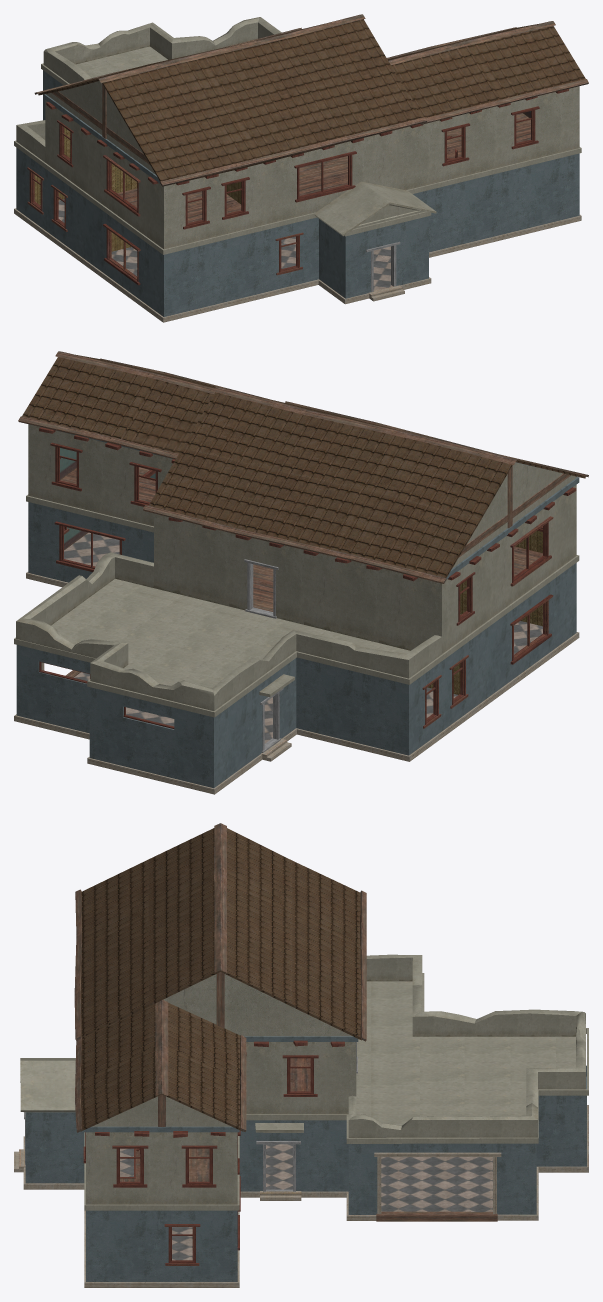
File: BuildingLarge01_2048.glb
3 views of the same model, one above another, from view 1: azimuth 30°, elevation 25°; view 2: azimuth 150°, elevation 25°; view 3: azimuth 270°, elevation 25° (orthographic). The views are drawn at different scales.
Visible parts, largest first — view 1: xiutz_building_large_01; view 2: xiutz_building_large_01; view 3: xiutz_building_large_01.
Boxes of the visible parts, x1,y1,x2,y2 form: xiutz_building_large_01: [14, 14, 588, 322]; xiutz_building_large_01: [14, 351, 588, 794]; xiutz_building_large_01: [14, 823, 588, 1287].
Bounding box in the file's own units: 31.68 × 14.18 × 32.12.
1 material, 1 textured.
